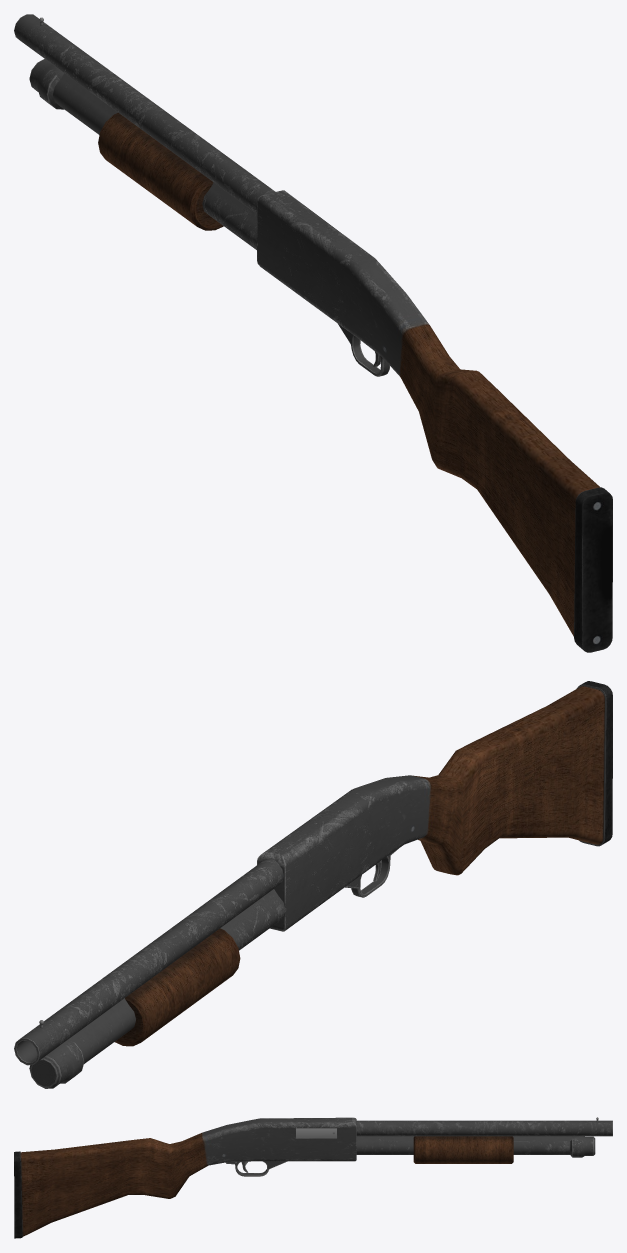
The picture shows the model from 3 angles, top to bottom: view 1: azimuth 30°, elevation 25°; view 2: azimuth 150°, elevation 25°; view 3: azimuth 270°, elevation 25°; orthographic projection. The views are drawn at different scales.
Parts seen in each view (by area): view 1: Shotgun, Fore_Stock; view 2: Shotgun, Fore_Stock; view 3: Shotgun, Fore_Stock, Ejection_Port.
Boxes of the visible parts, x1,y1,x2,y2 form: Shotgun: (14,14,612,652); Fore_Stock: (98,112,223,230); Shotgun: (14,681,612,1088); Fore_Stock: (115,928,240,1046); Shotgun: (14,1117,612,1238); Fore_Stock: (413,1136,513,1163); Ejection_Port: (296,1128,336,1138).
Size of the model in its own units: 0.0562 by 0.2408 by 1.1.
1 material, 1 textured.
